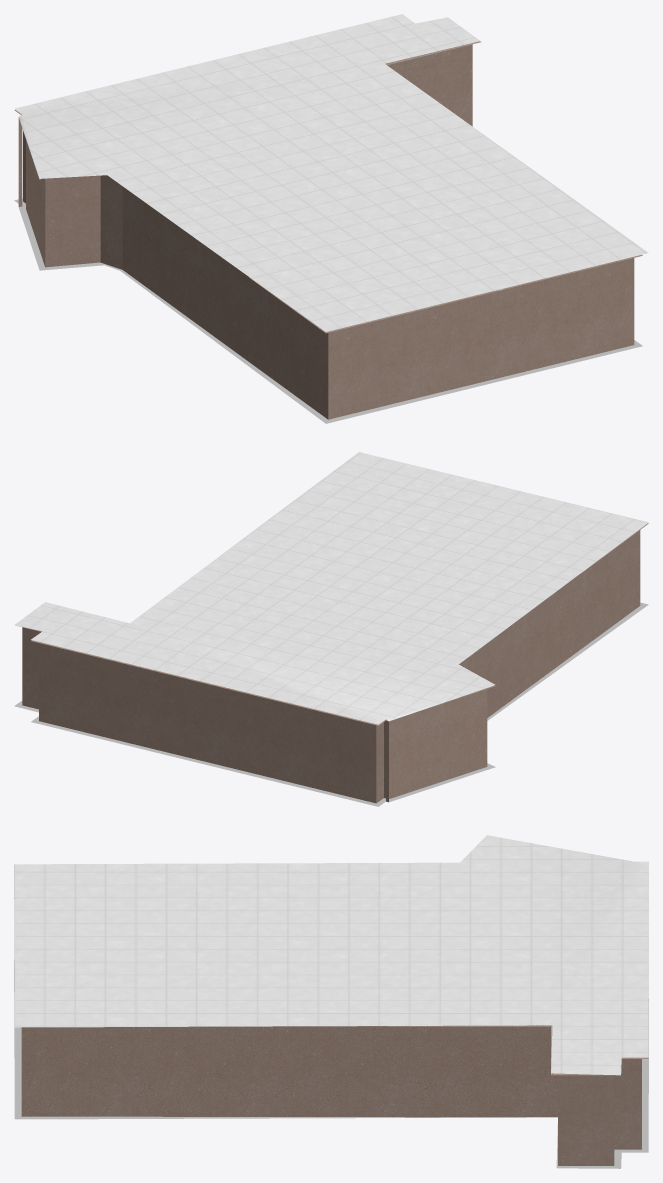
Rendered from OfficeNew.fbx.
3 views of the same model, one above another, from view 1: azimuth 30°, elevation 25°; view 2: azimuth 150°, elevation 25°; view 3: azimuth 270°, elevation 25° (orthographic). The views are drawn at different scales.
Visible parts, largest first — view 1: Office1Roof, Office1NewWalls, Office1Floor; view 2: Office1Roof, Office1NewWalls, Office1Floor; view 3: Office1Roof, Office1NewWalls, Office1Floor.
Part boxes in pixels (x1,y1,x2,y2): Office1Roof: (14, 14, 648, 331); Office1NewWalls: (14, 41, 642, 419); Office1Floor: (14, 198, 642, 423); Office1Roof: (14, 452, 648, 724); Office1NewWalls: (19, 523, 648, 803); Office1Floor: (14, 602, 648, 806); Office1Roof: (14, 835, 648, 1075); Office1NewWalls: (14, 898, 648, 1165); Office1Floor: (14, 959, 648, 1168).
Bounding box in the file's own units: 19.71 × 3.65 × 22.15.
